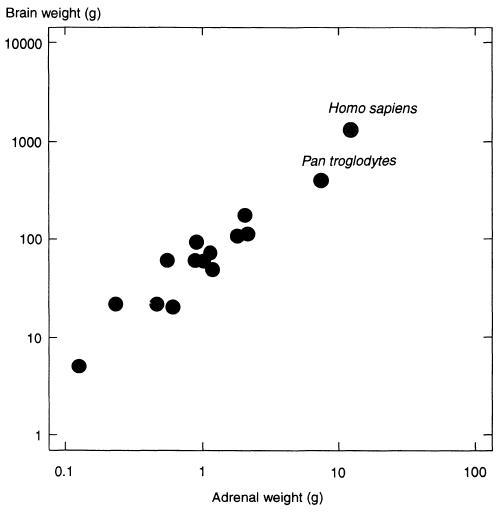axis: (42, 23, 60, 458)
point: (146, 294, 166, 316), (163, 297, 185, 317), (340, 120, 362, 140), (105, 294, 126, 314), (156, 251, 178, 270), (185, 232, 206, 251), (70, 356, 89, 376), (311, 171, 331, 190), (200, 243, 222, 259), (235, 206, 254, 224), (203, 262, 222, 279), (242, 224, 259, 243), (185, 253, 201, 271), (229, 228, 245, 245)
